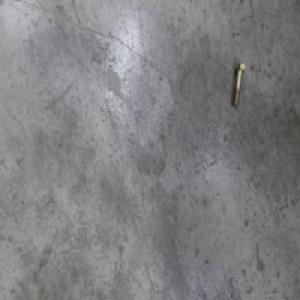Bolt: (230, 59, 243, 104)
